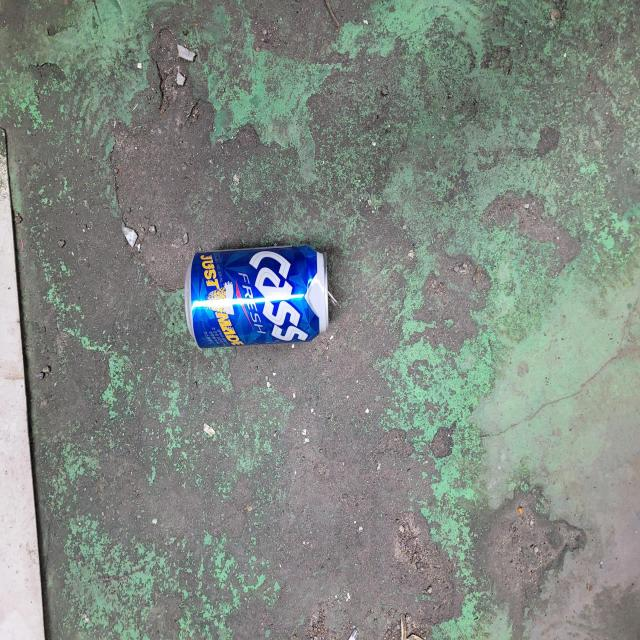can: (184, 244, 329, 348)
